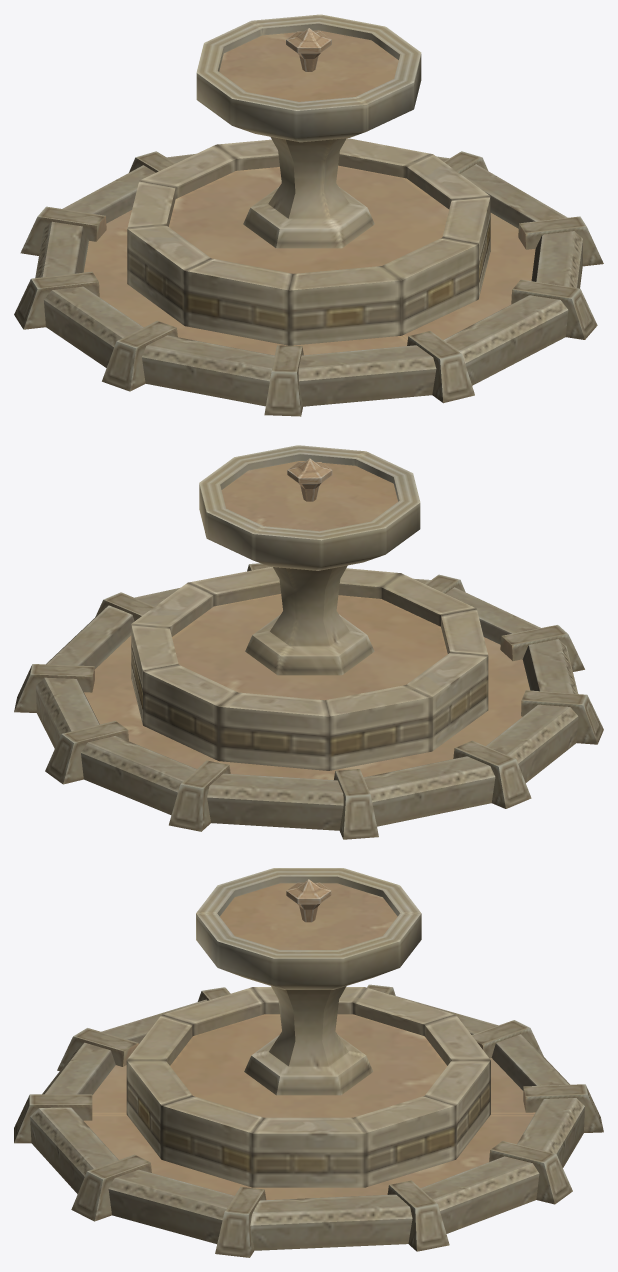
Rendered from fountain_1.FBX.
3 renders of one model, top to bottom at view 1: azimuth 30°, elevation 25°; view 2: azimuth 150°, elevation 25°; view 3: azimuth 270°, elevation 25°, orthographic.
Parts seen in each view (by area): view 1: fountain; view 2: fountain; view 3: fountain.
Part boxes in pixels (x1,y1,x2,y2): fountain: [14, 14, 603, 416]; fountain: [14, 445, 603, 839]; fountain: [14, 868, 603, 1257].
Size of the model in its own units: 98.18 by 48.02 by 100.
